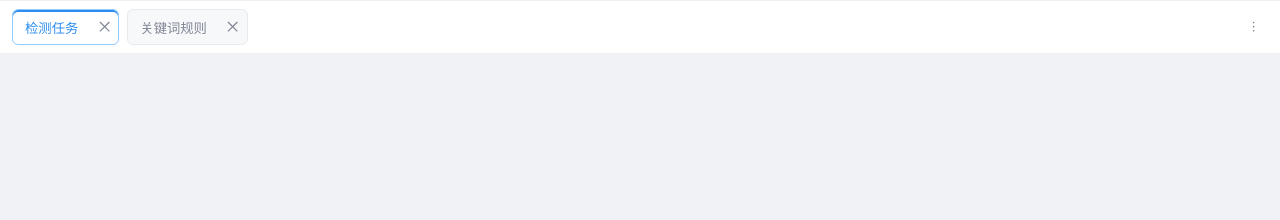
Test: PageTabs › renders a scrollable tab rail with close and more actions
Check: the element with class "admin-page-tabs__scroll" is shown, box [12, 9, 248, 45]
Check: the element with class "admin-page-tabs__item--active" reads "检测任务", box [13, 10, 90, 44]
Click the button "关键词规则" at x=174, y=27, box [128, 10, 219, 44]
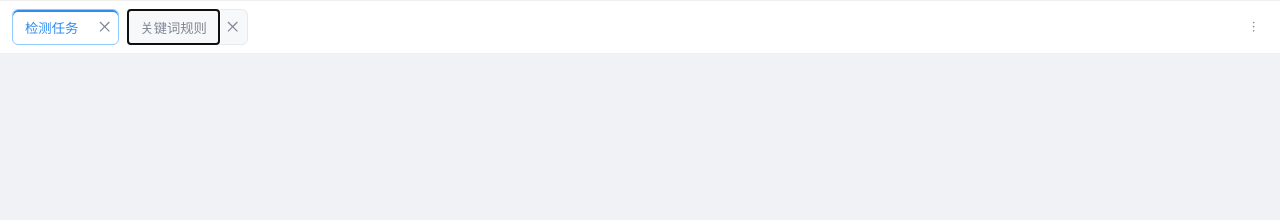
Click the button named "关闭 检测任务" at x=104, y=27, box [90, 13, 118, 41]
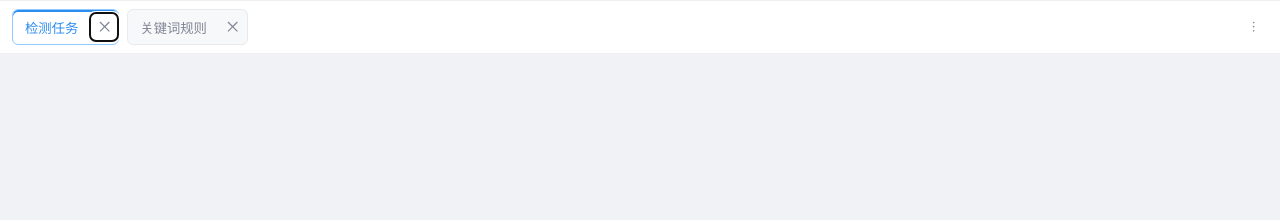
Click the button named "关闭 关键词规则" at x=233, y=27, box [219, 13, 247, 41]
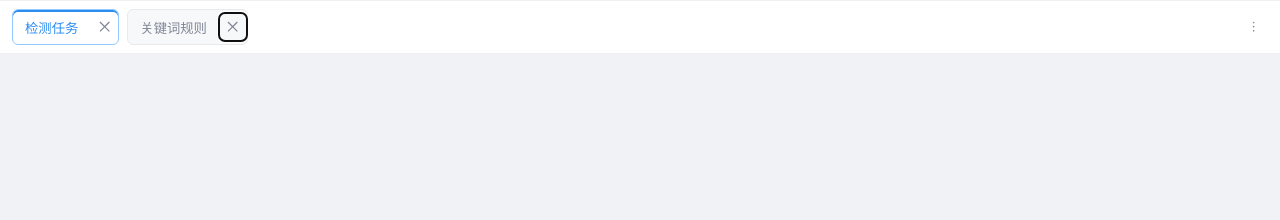
Click the button named "更多标签操作" at x=1254, y=27, box [1240, 13, 1268, 41]
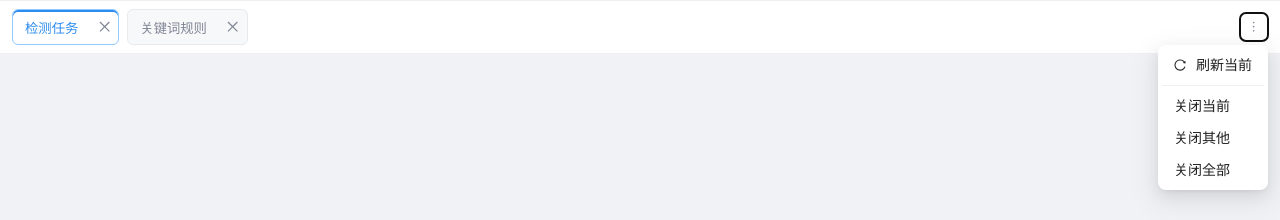
Check: the text "关闭当前" is shown, box [1174, 97, 1230, 114]
Check: the text "关闭其他" is shown, box [1174, 129, 1230, 146]
Check: the text "关闭全部" is shown, box [1174, 161, 1230, 178]
